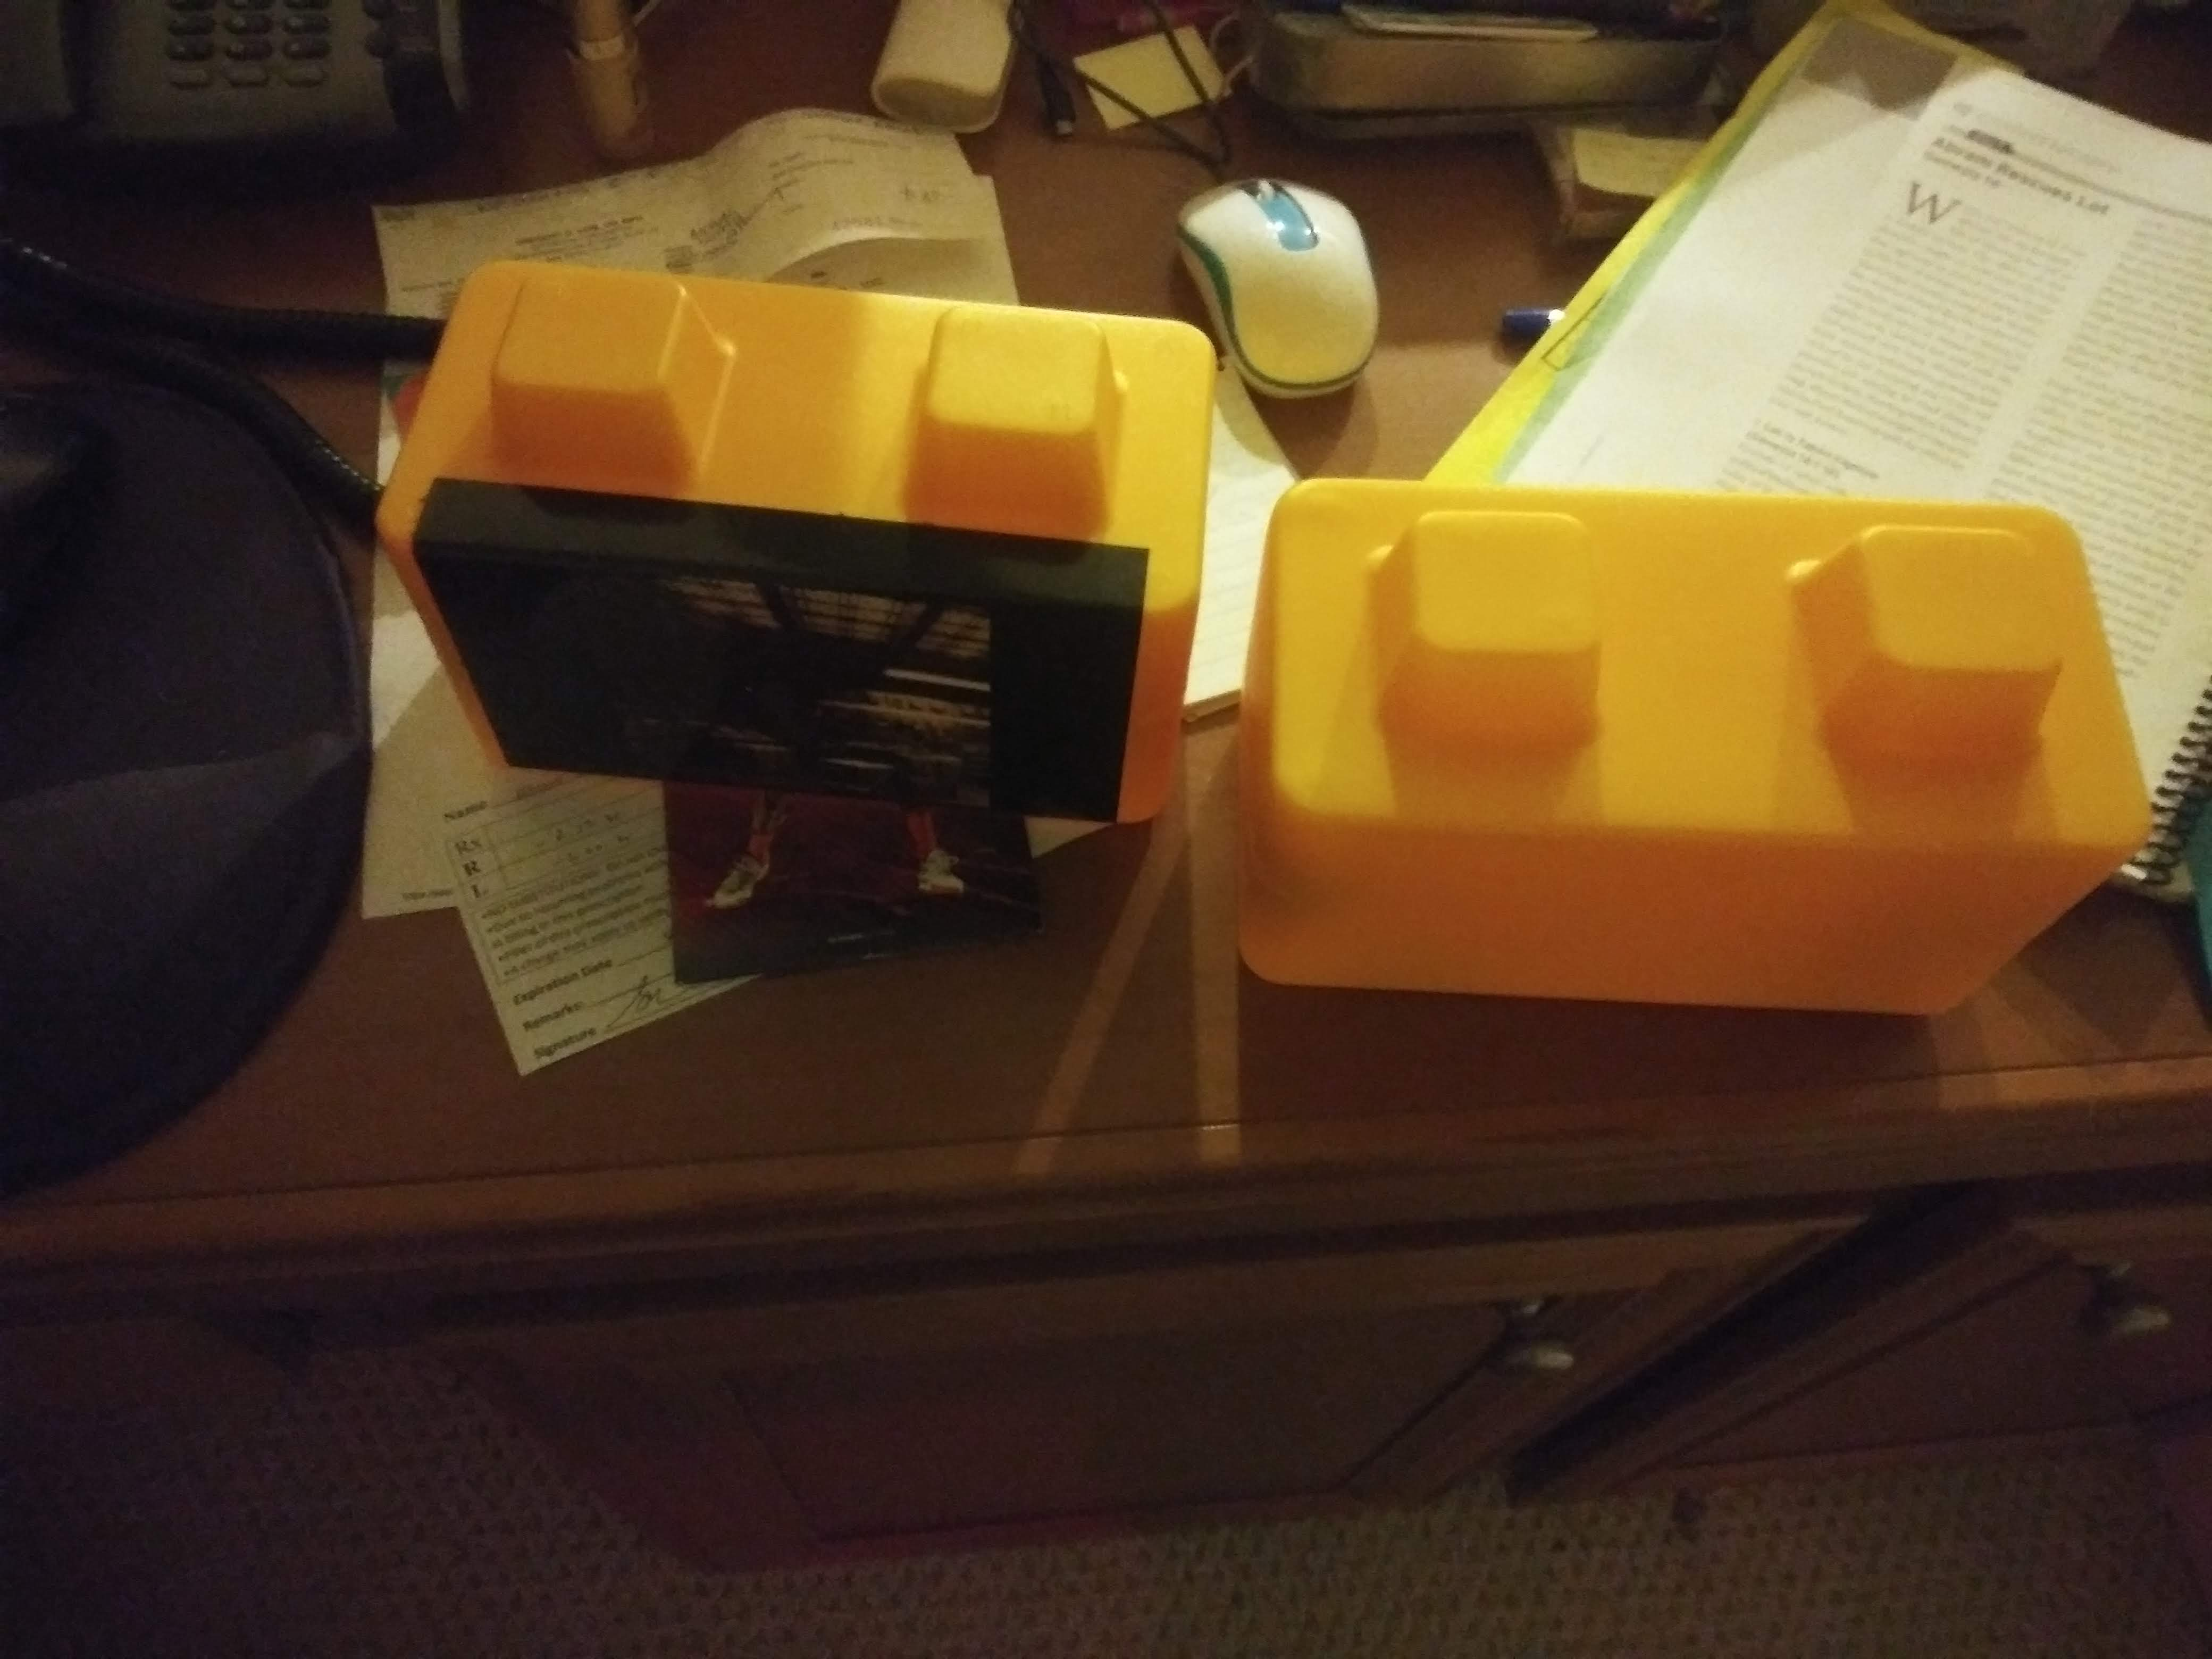skystone: (415, 277, 1172, 833)
stone: (1268, 474, 2109, 1019)
